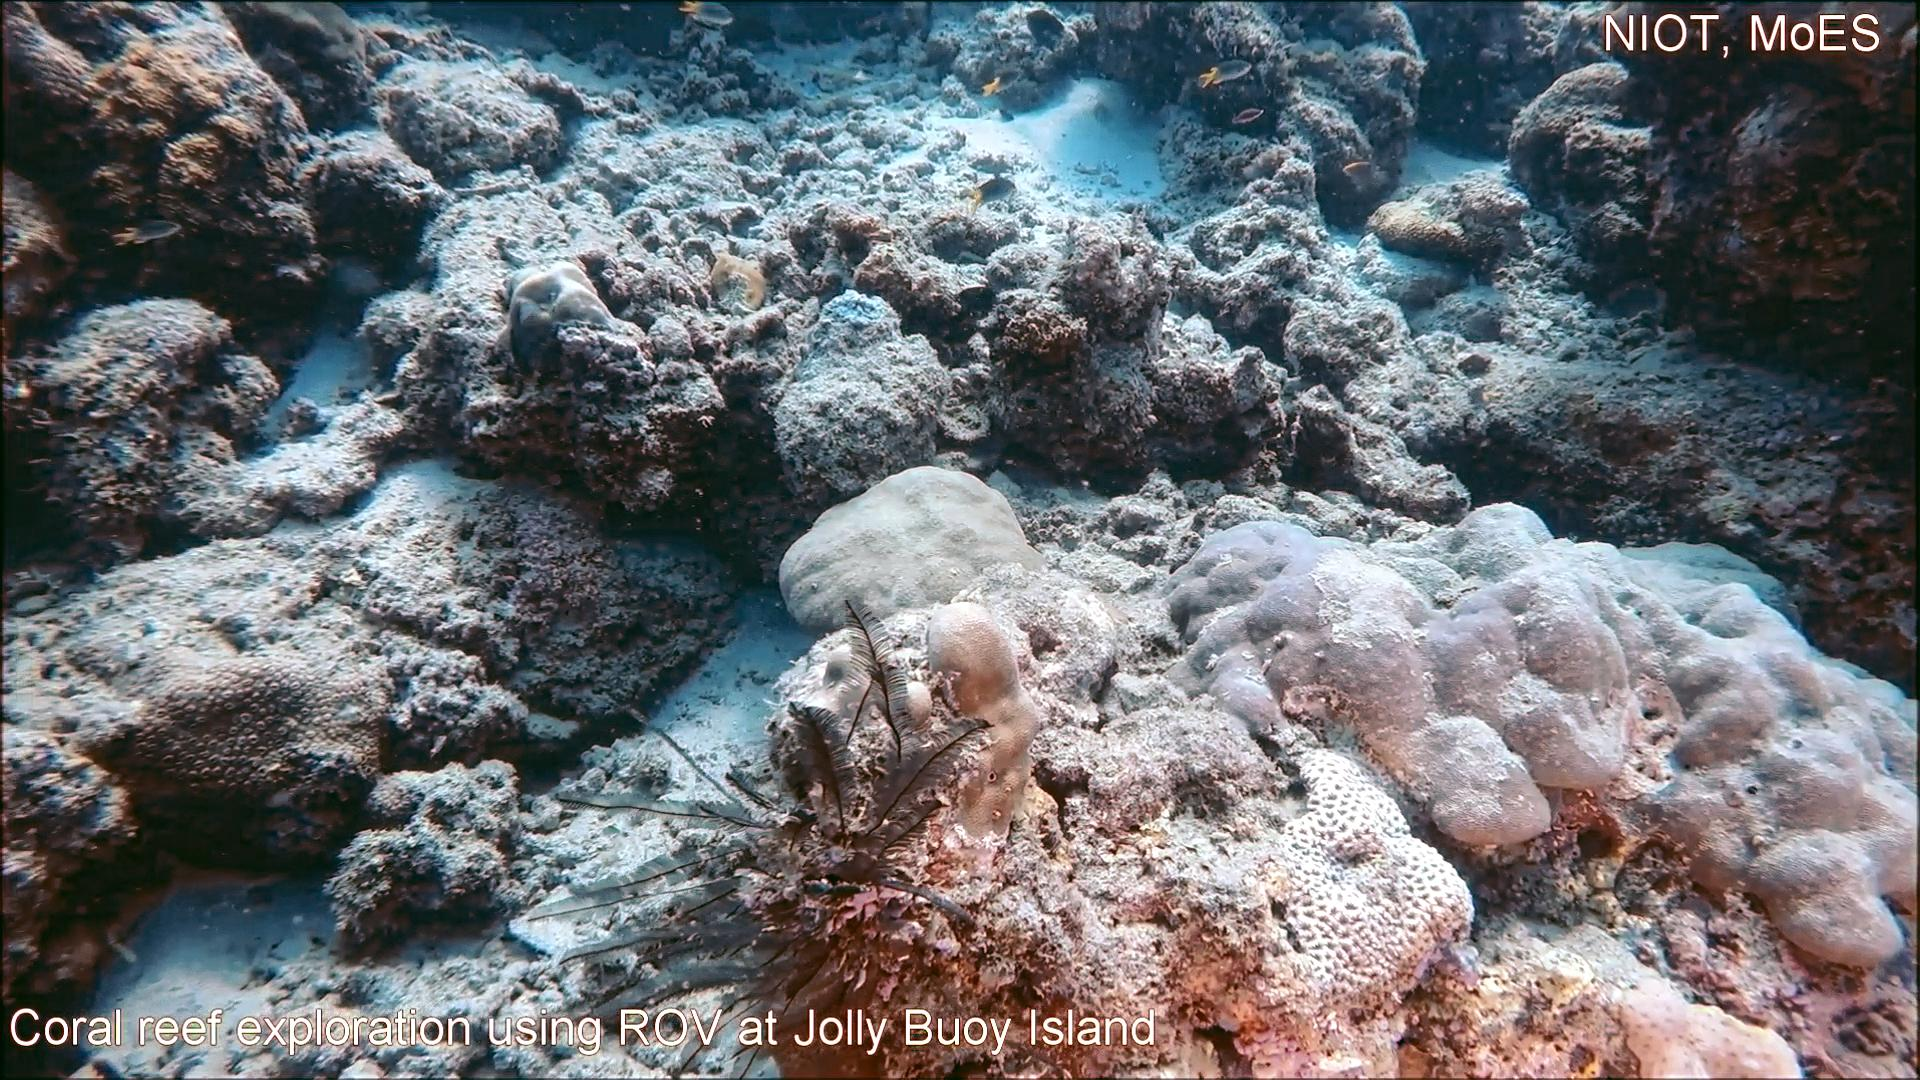Feather star-Crinoid star: (518, 587, 1000, 1080)
Goniastrea-Goniastrea pectinata: (1258, 742, 1482, 1025)
Porites-Porites pukoensis: (1520, 496, 1920, 977)
Turbinaria-Turbinaria stellulata: (80, 634, 389, 831)
